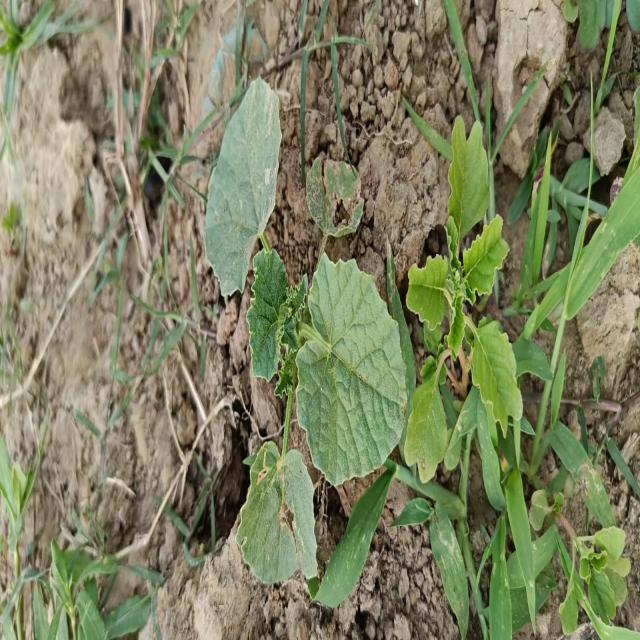plant: (206, 76, 523, 582)
